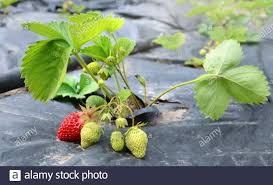ripe: (56, 110, 91, 141)
unripe: (125, 126, 149, 157), (78, 121, 103, 150), (109, 128, 125, 152), (83, 61, 101, 73)
